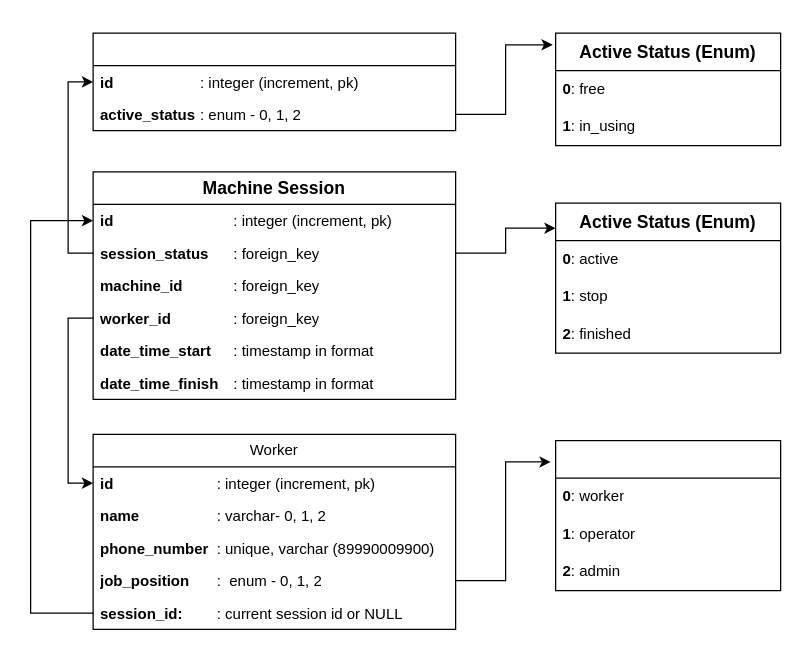
Some shapes in this 803 by 655 pixel diagram are drawn without their labels. Here are the shapes that lost their labels. From the top down, the box of each, then its label:
(92, 32, 456, 131): Machine
(554, 439, 781, 591): Job Positions (Enum)
